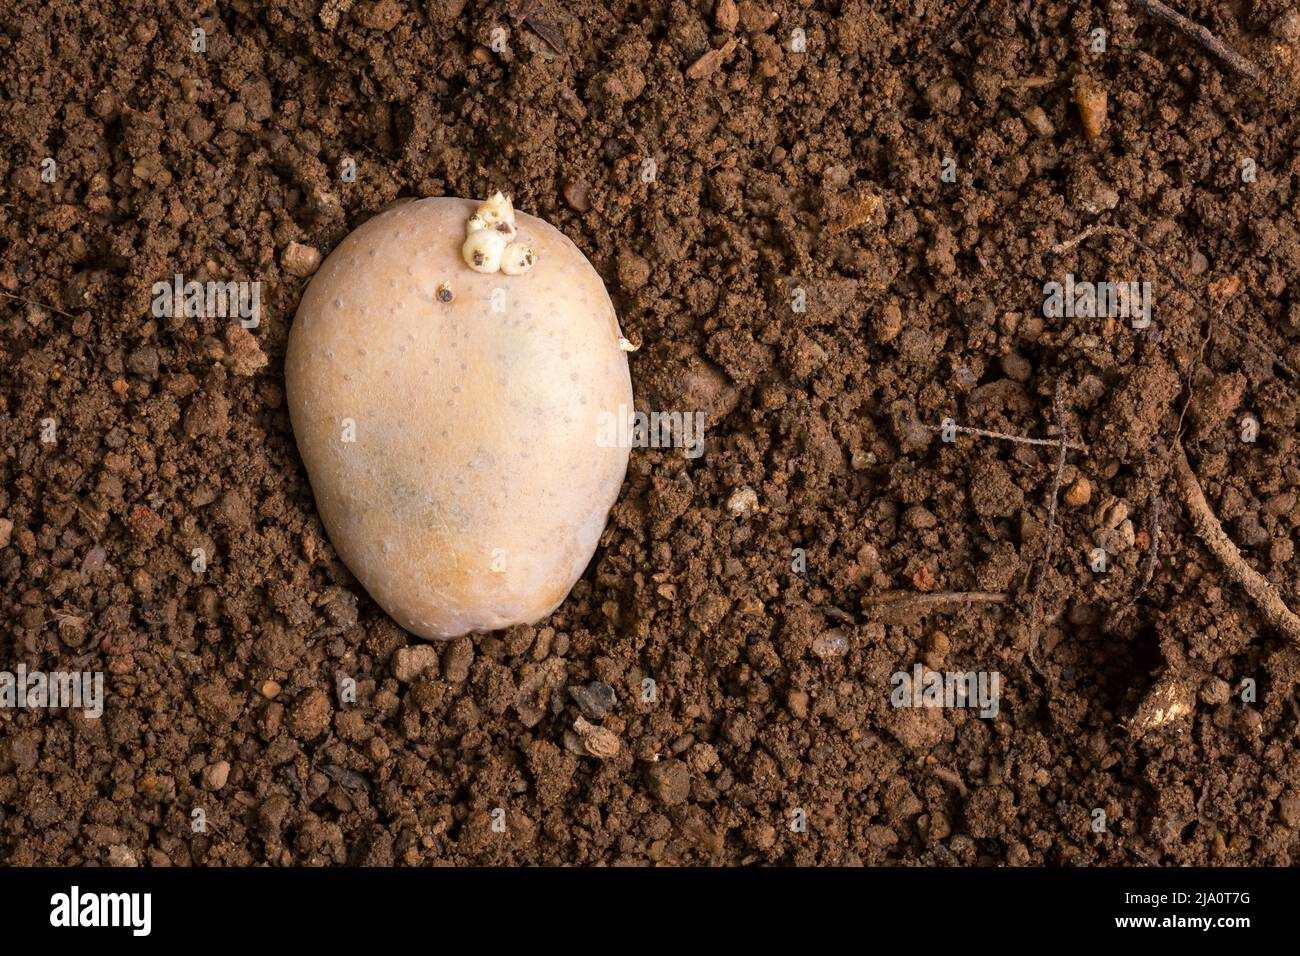potato rotten: (285, 181, 678, 637)
